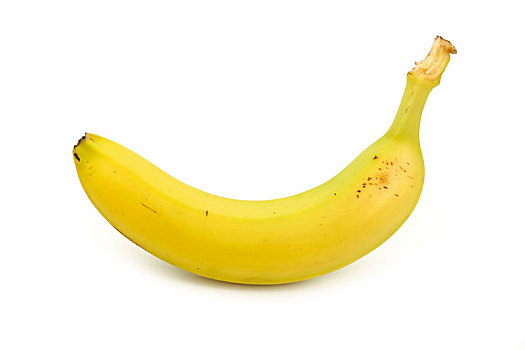banana: (72, 34, 458, 285)
